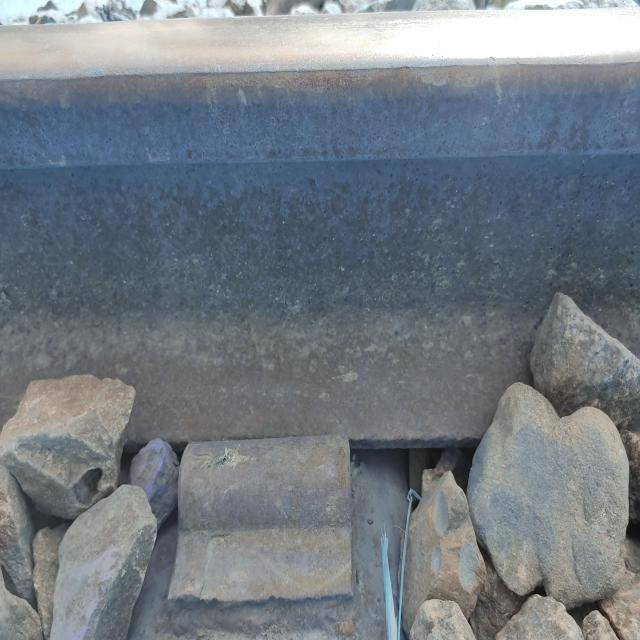Missing Fastener: (156, 420, 399, 634)
